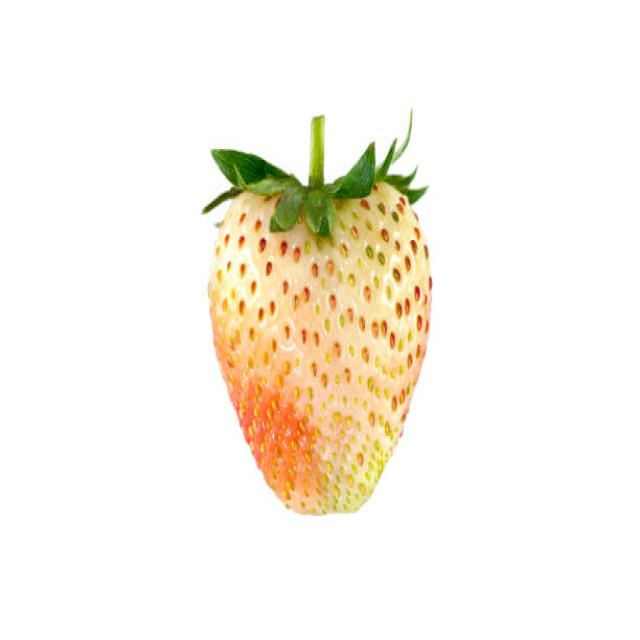Healthy Fruit: (208, 188, 433, 516)
